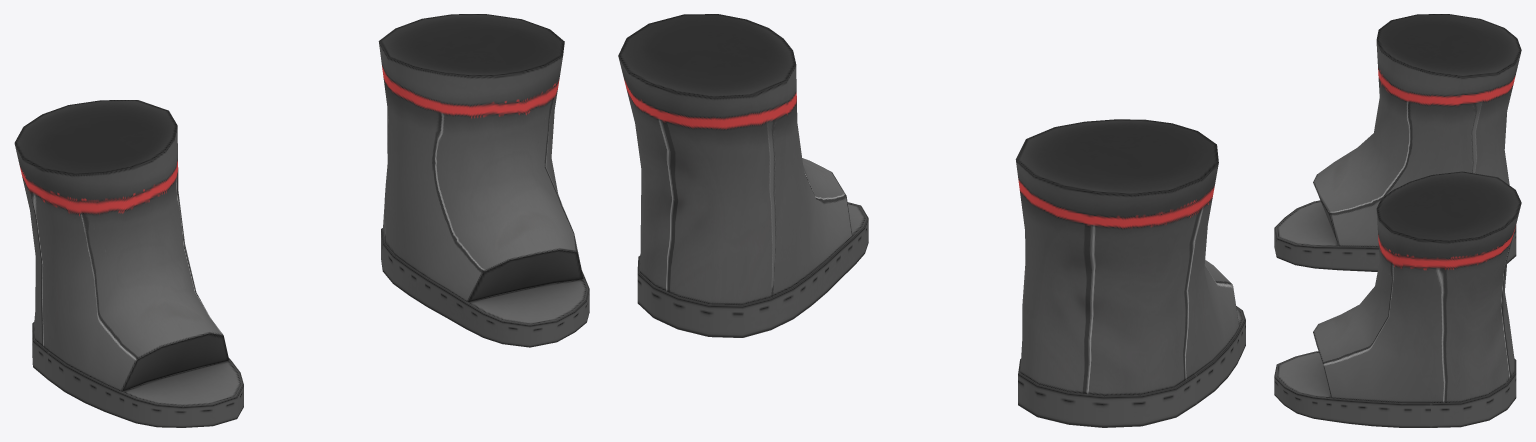
The model's file is ninjassuitshoe.glb.
3 views of the same model, side by side, from view 1: azimuth 30°, elevation 25°; view 2: azimuth 150°, elevation 25°; view 3: azimuth 270°, elevation 25° (orthographic). The views are drawn at different scales.
Visible parts, largest first — view 1: ninjassuitshoe; view 2: ninjassuitshoe; view 3: ninjassuitshoe.
Part boxes in pixels (<box>): ninjassuitshoe: <box>14,14,589,427</box>; ninjassuitshoe: <box>618,14,1245,427</box>; ninjassuitshoe: <box>1274,14,1521,427</box>.
Size of the model in its own units: 0.4064 by 0.1639 by 0.1865.
Materials: 1 (1 with a texture image).
